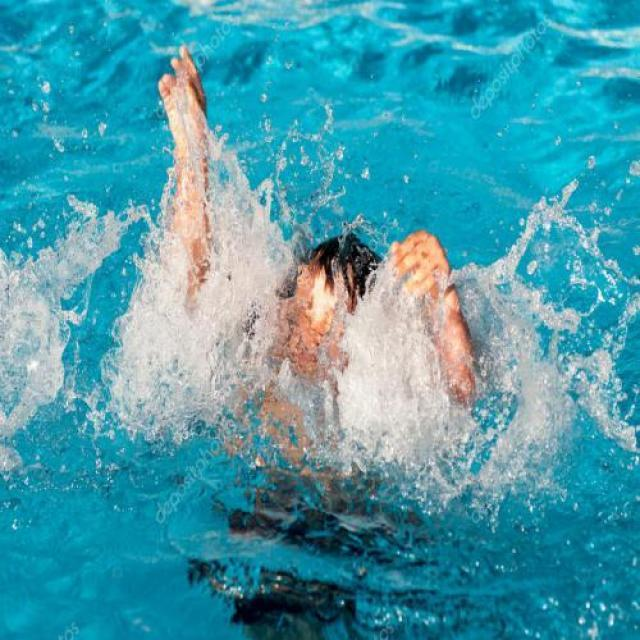drowning: (126, 18, 549, 508)
